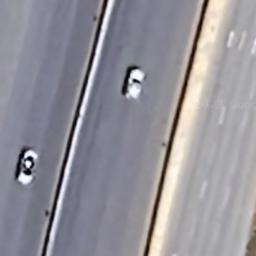SUV: (123, 64, 146, 102)
sedan: (15, 144, 38, 190)
